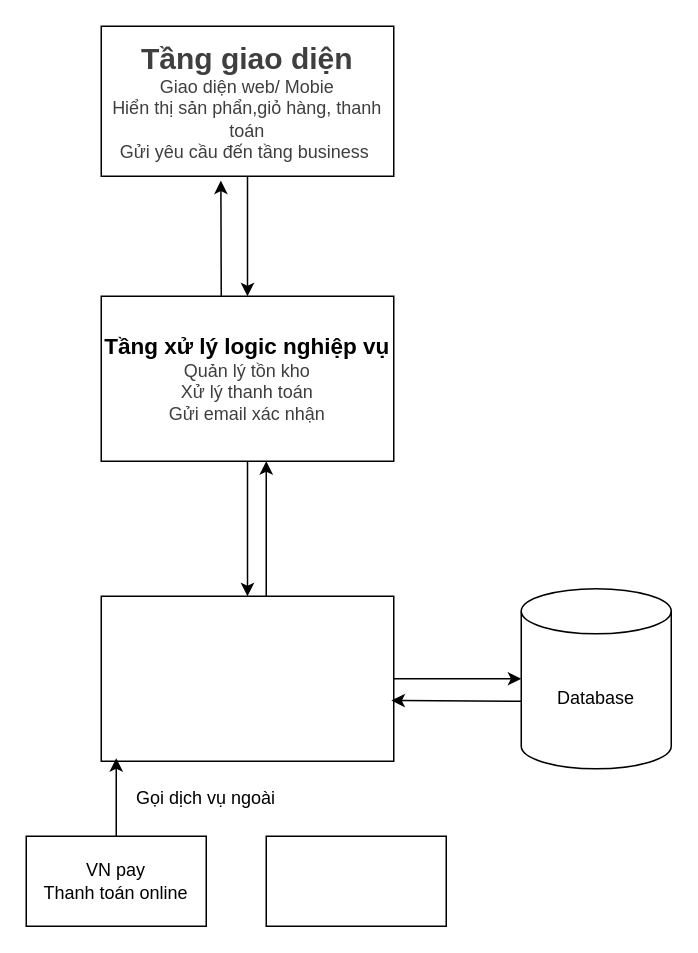
The diagram is 698 pixels wide and 953 high, and some of its shapes have lost their labels. Each missing label, with the box of its shape:
SMTP Server Gửi email xác nhận: (265, 835, 446, 926)
Tầng dữ liệu Database ProductRepository OrderRespository InventoryRespository: (100, 595, 394, 761)
